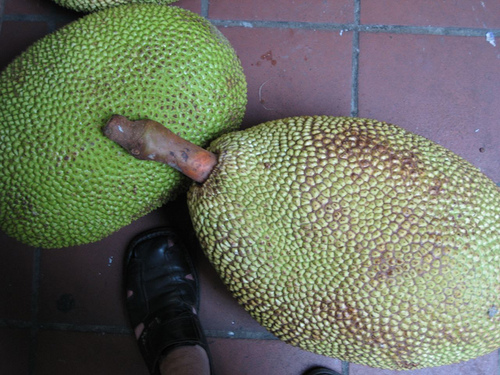jackfruit: (103, 114, 499, 369), (0, 1, 248, 248)
